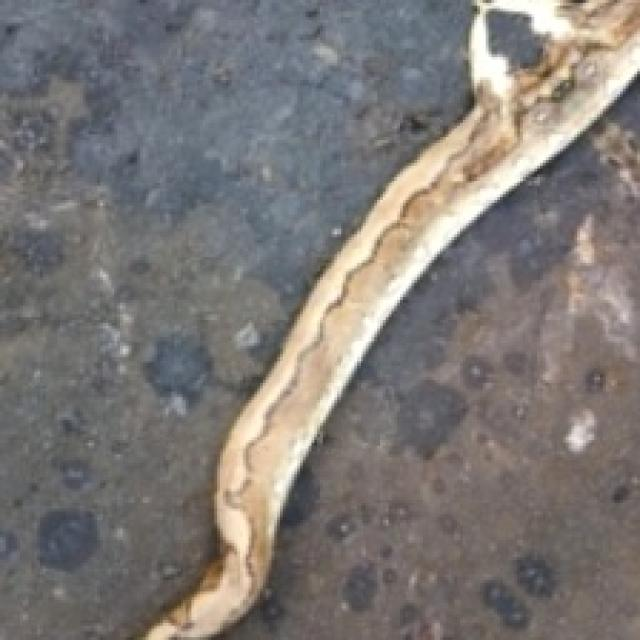reticulated python: (140, 0, 637, 637)
